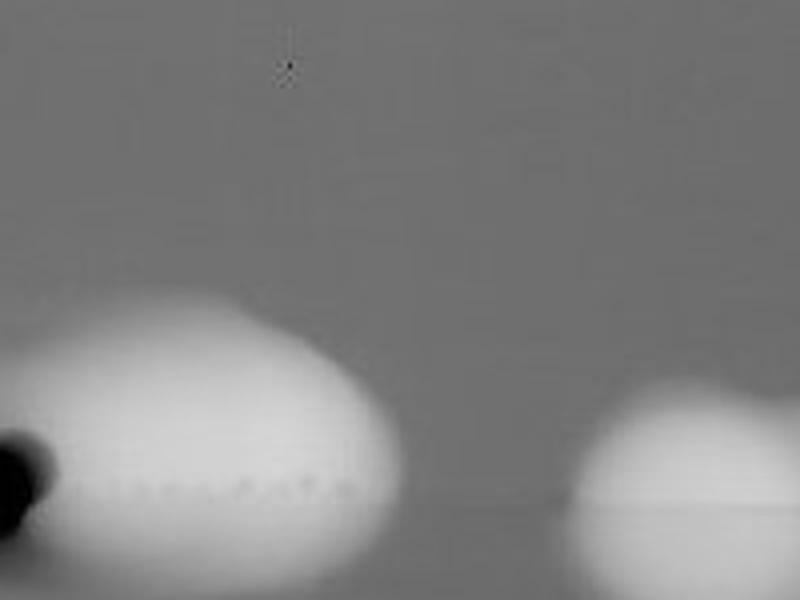defect: (1, 435, 46, 541), (333, 477, 357, 506), (281, 55, 303, 78), (297, 473, 318, 496)
